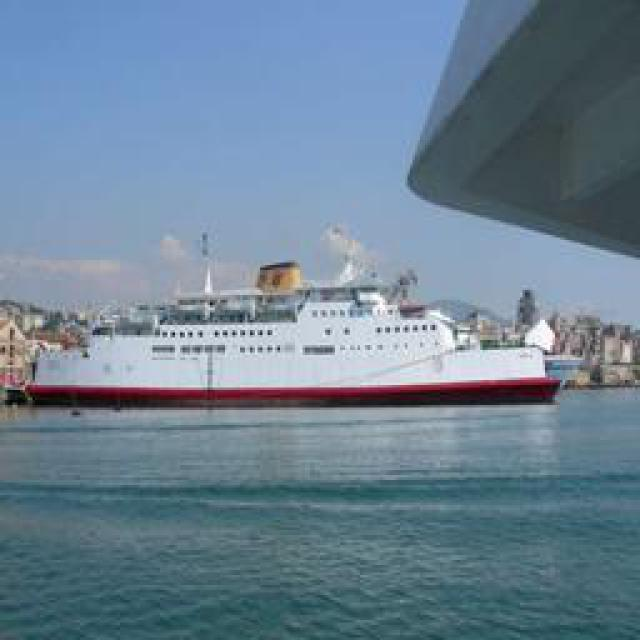Ship: (17, 241, 565, 411)
